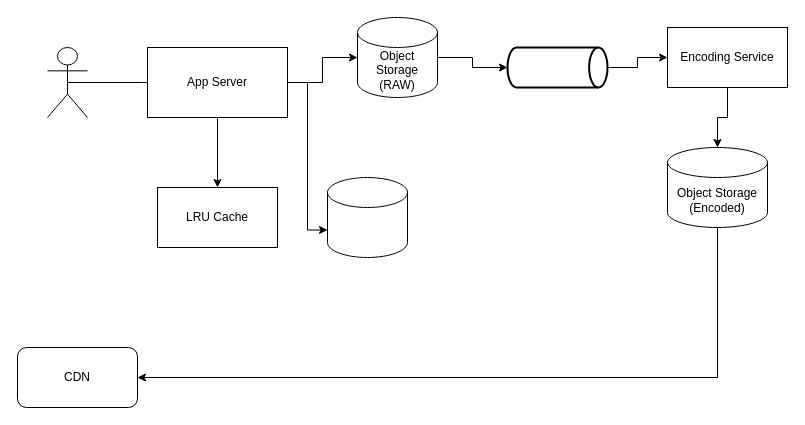
The diagram is 805 pixels wide and 425 high, and some of its shapes have lost their labels. The shapes that lost their labels are listed below. From the top down, each one's centre as x and y in pixels, then its label:
(x=67, y=82): Actor
(x=557, y=67): Queue
(x=367, y=217): No SQL DB (Metadata)
